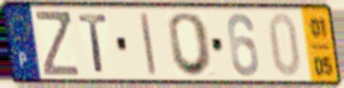0: (266, 11, 304, 80)
6: (225, 11, 261, 78)
I: (138, 10, 159, 79)
O: (166, 10, 216, 78)
T: (76, 12, 110, 75)
Z: (33, 8, 82, 78)
